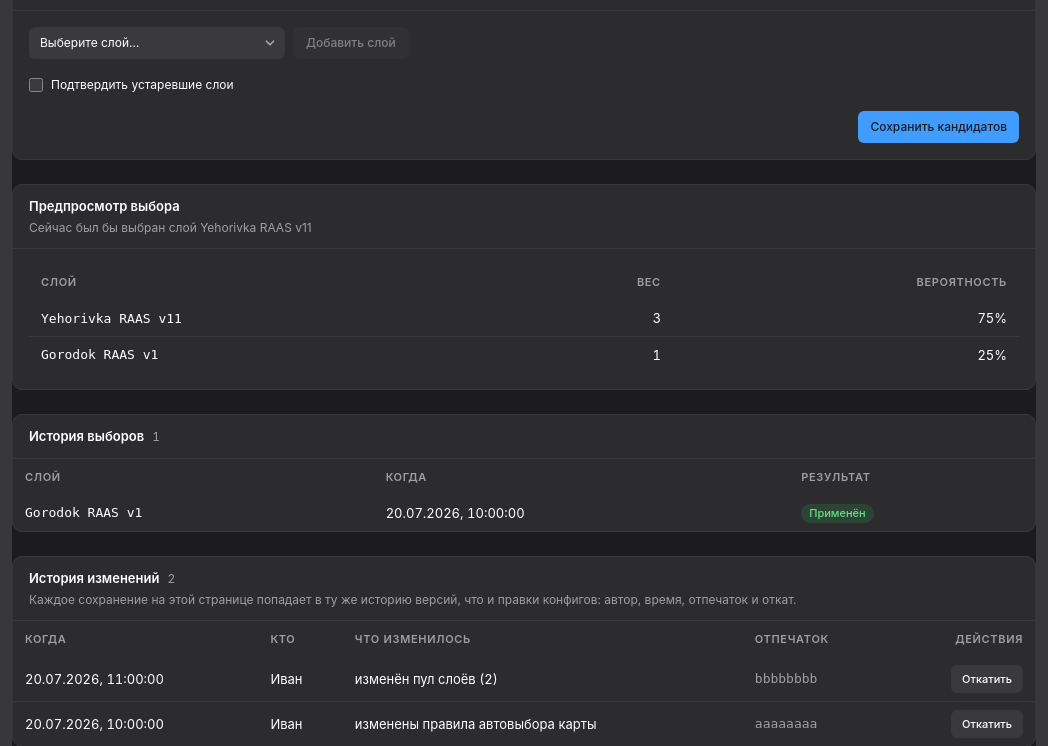
Scenario: MapVotePage — история изменений › объясняет пропавшие слои и предлагает откат без них
This screenshot has width=1048, height=746.
(page scrolled)
Click the button "Откатить" in the row of "20.07.2026, 11:00:00".
click(987, 679)  # box top-left (951, 665), bottom-right (1023, 693)
(page scrolled)
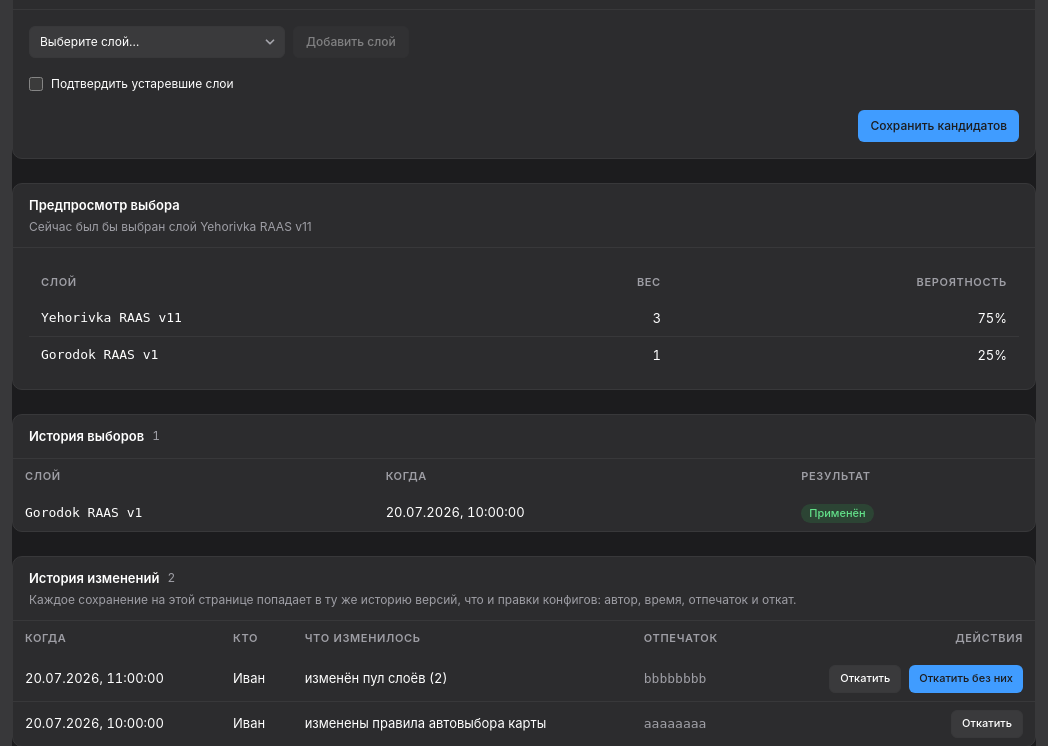
Click the button "Откатить без них".
click(966, 679)  # box top-left (909, 665), bottom-right (1023, 693)
(page scrolled)
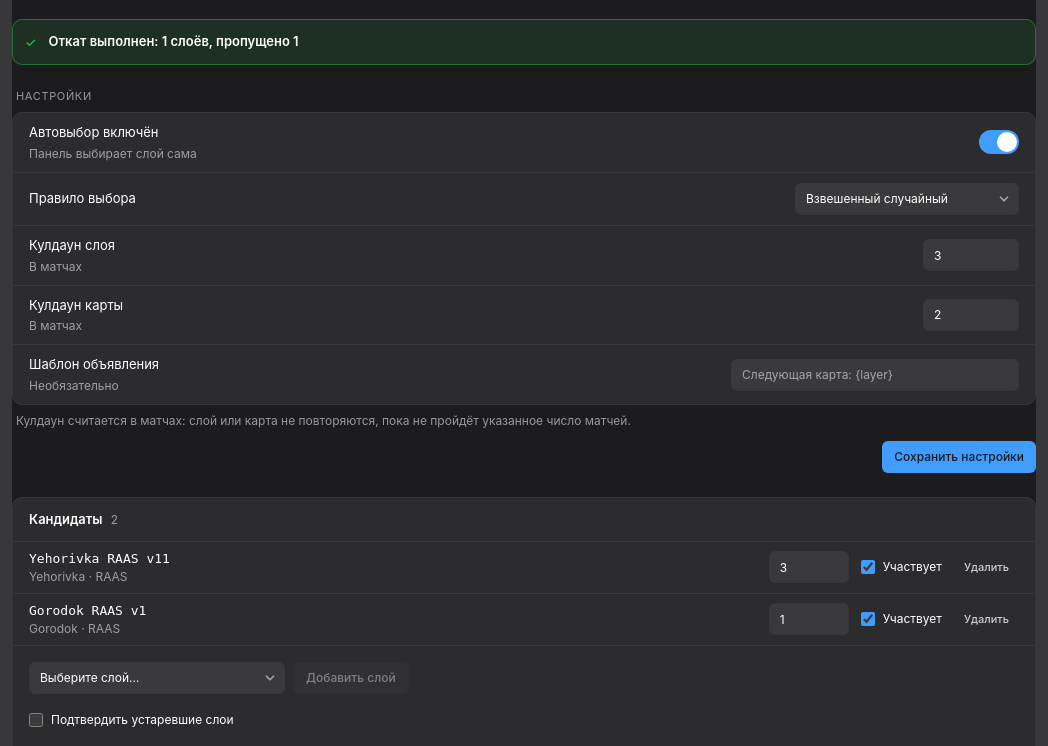
expect the text "Откат выполнен: 1 слоёв, пропущено 1" is shown: met, box top-left (48, 33), bottom-right (299, 49)
